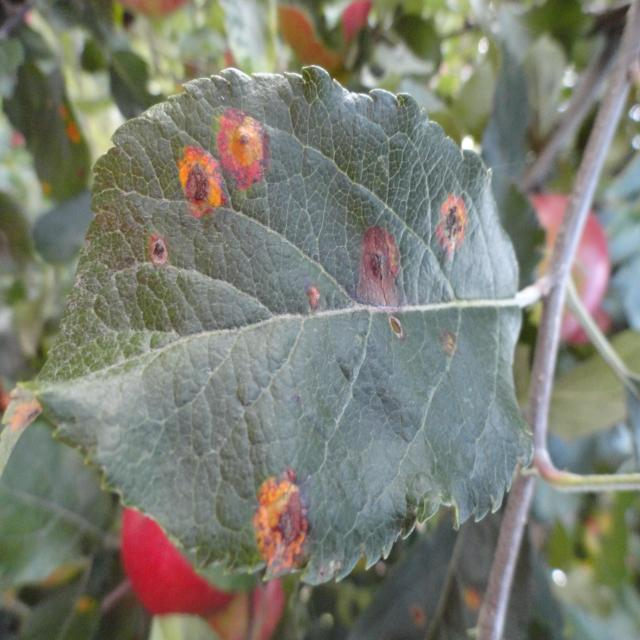Rust: (344, 200, 412, 332), (250, 474, 318, 591), (214, 92, 274, 193), (167, 127, 228, 226), (426, 172, 478, 281)
